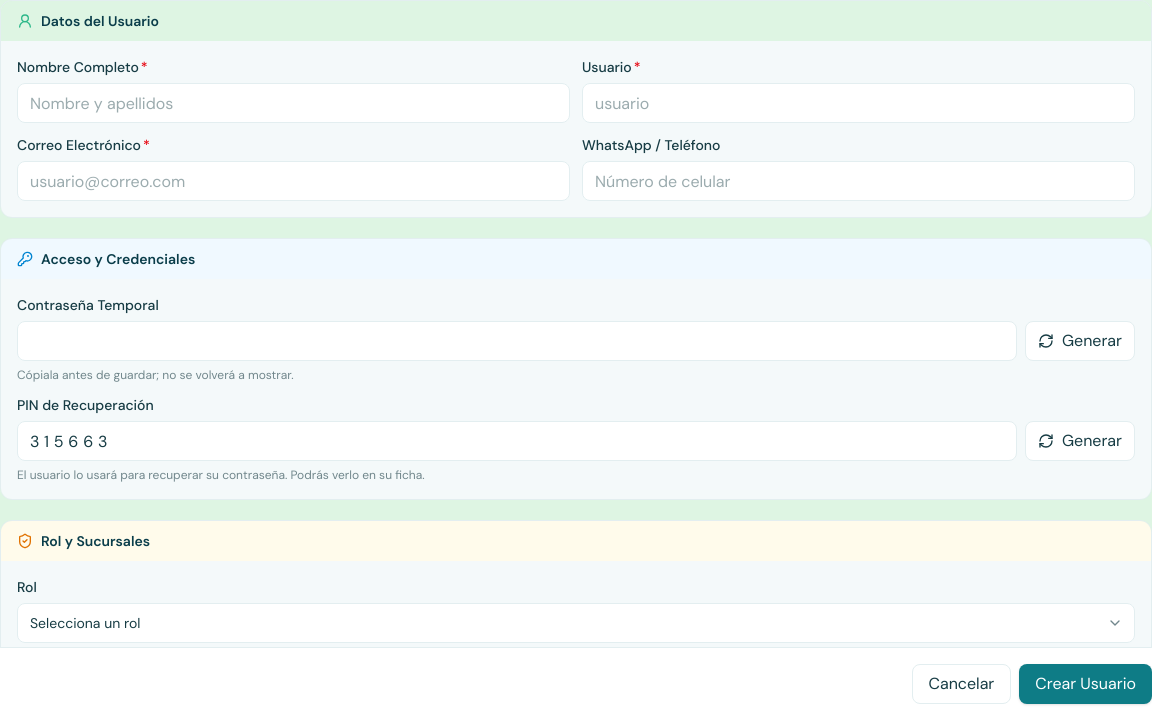
Scenario: UserForm › exige un usuario válido
Type "Ana Operadora" into the field labelled "Nombre Completo".
click(294, 103); type("Ana Operadora")  # box [17,83,570,123]
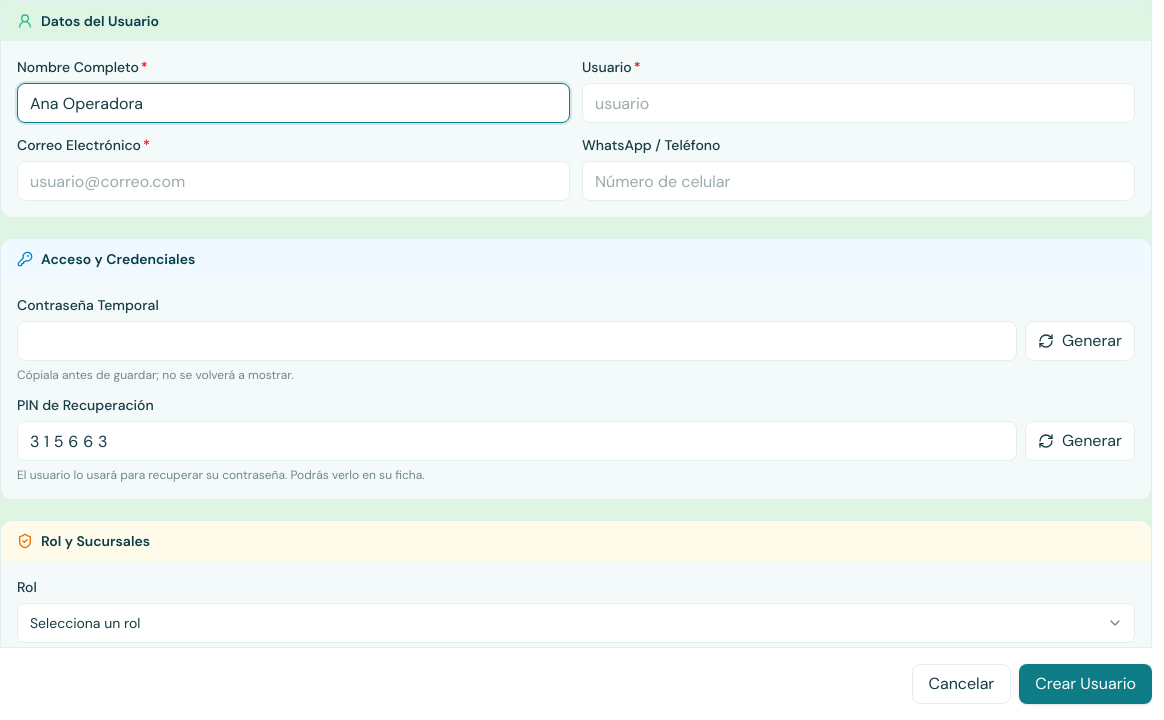
Type "a b" into the field labelled "Usuario".
click(858, 103); type("a b")  # box [582,83,1135,123]
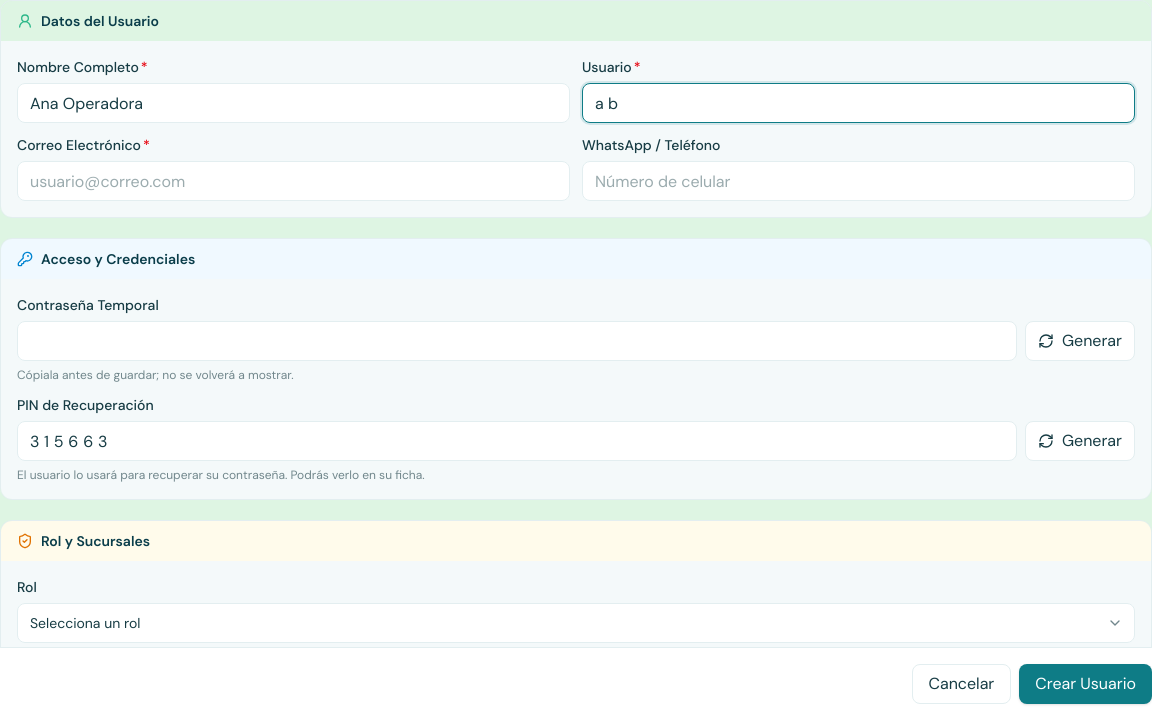
Type "ana@example.com" into the field labelled "Correo Electrónico".
click(294, 181); type("ana@example.com")  # box [17,161,570,201]
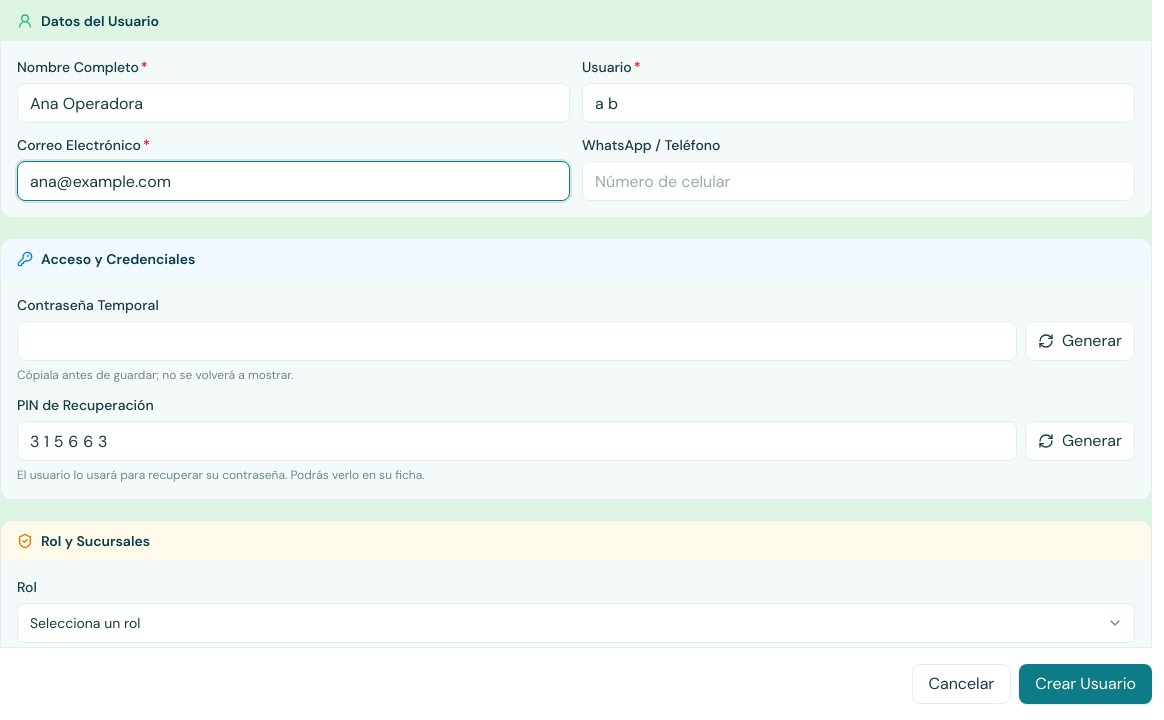
Type "Password-2026!" into the field labelled "Contraseña Temporal".
click(517, 341); type("Password-2026!")  # box [17,321,1017,361]
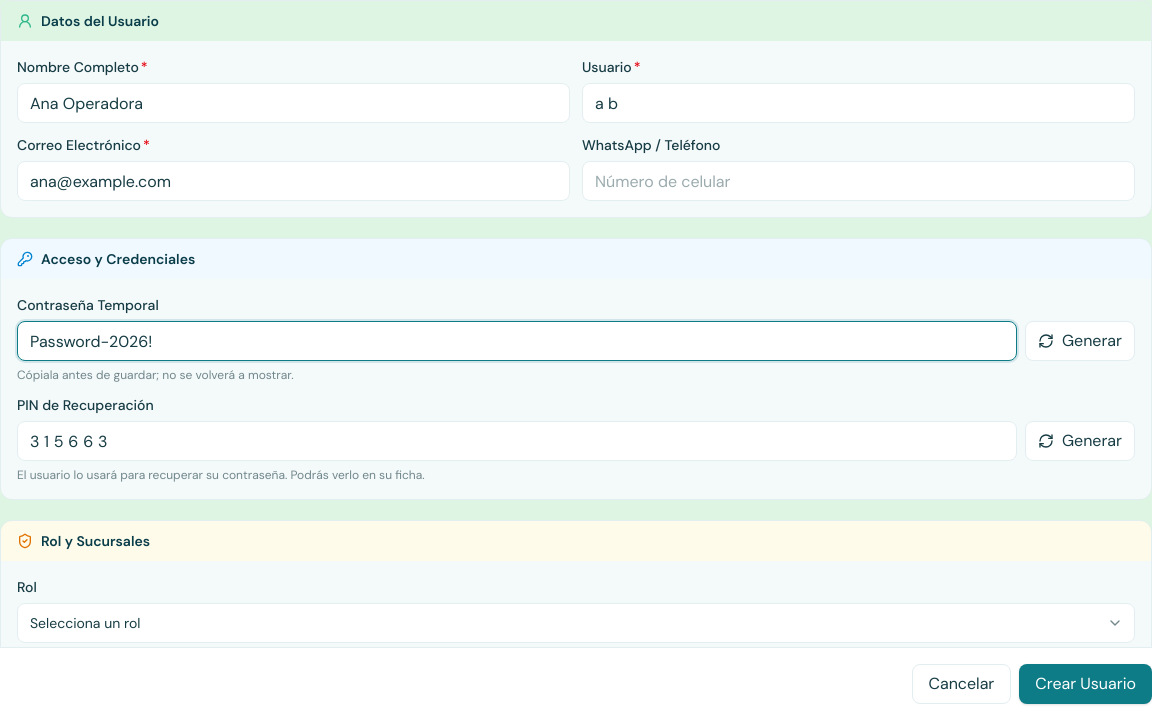
Select "Master" in the dropdown labelled "Rol" at (576, 623), box [17,603,1135,643]
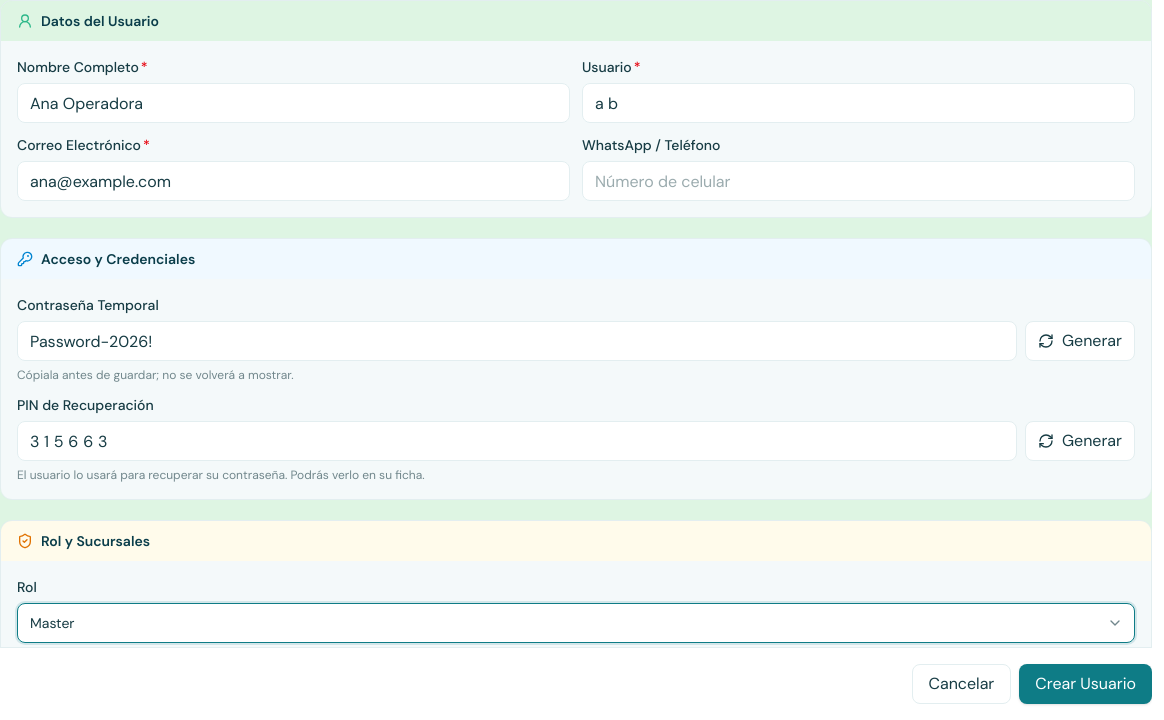
Click the button "Crear Usuario".
click(1086, 684)  # box [1019,664,1152,704]
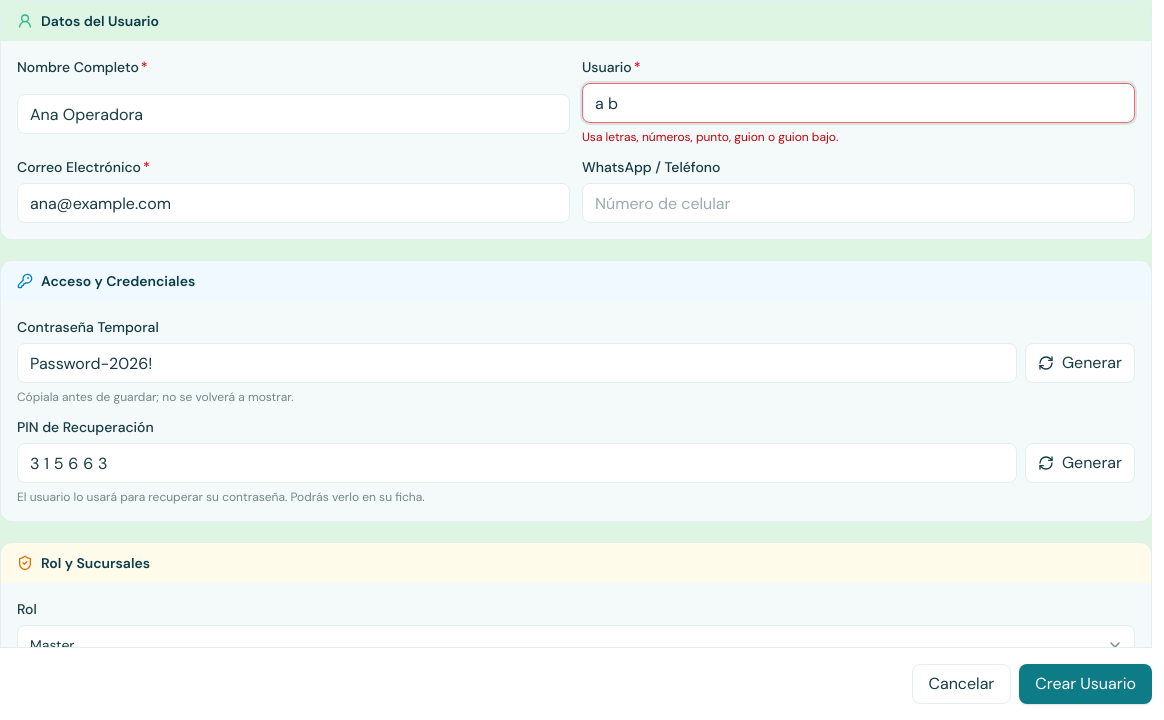
Expected: the text "Usa letras, números, punto, guion o guion bajo." is shown, [582,129,838,145]
